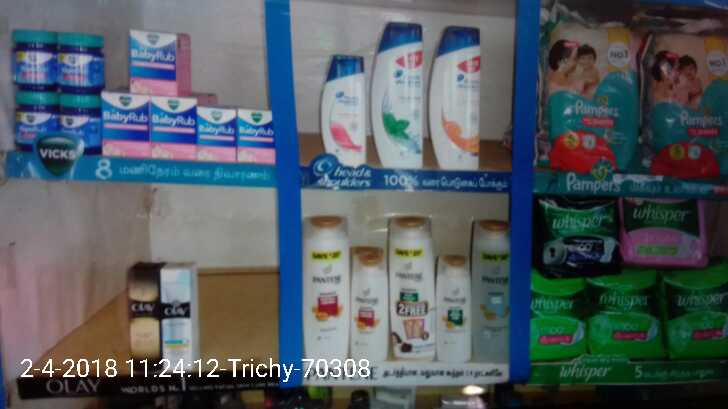vicks: (103, 11, 277, 162), (13, 11, 103, 149)
